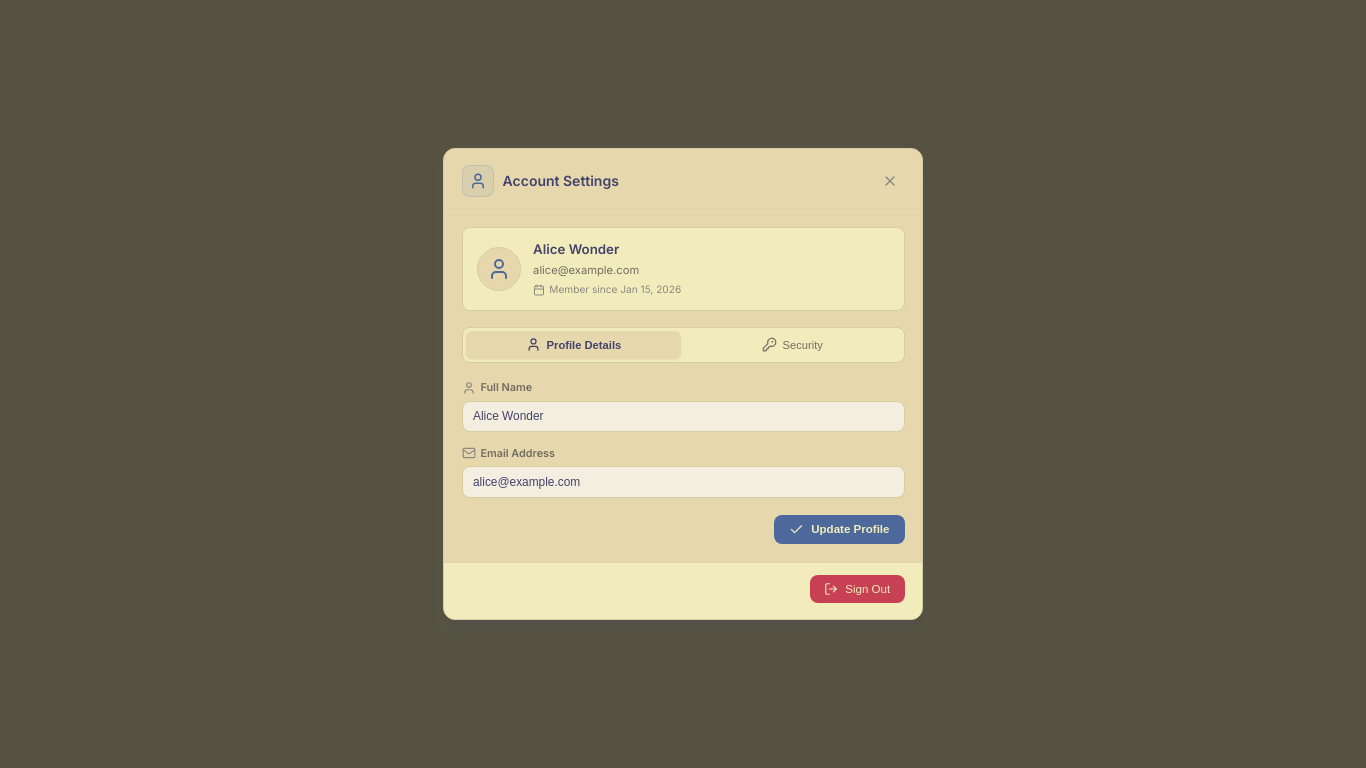
Scenario: Component: ProfileModal (app/components/ProfileModal.vue) › Security / Change Password Form & Validation › validates missing current password
Click the tab "Security". click: (792, 345)
box: [685,331,900,359]
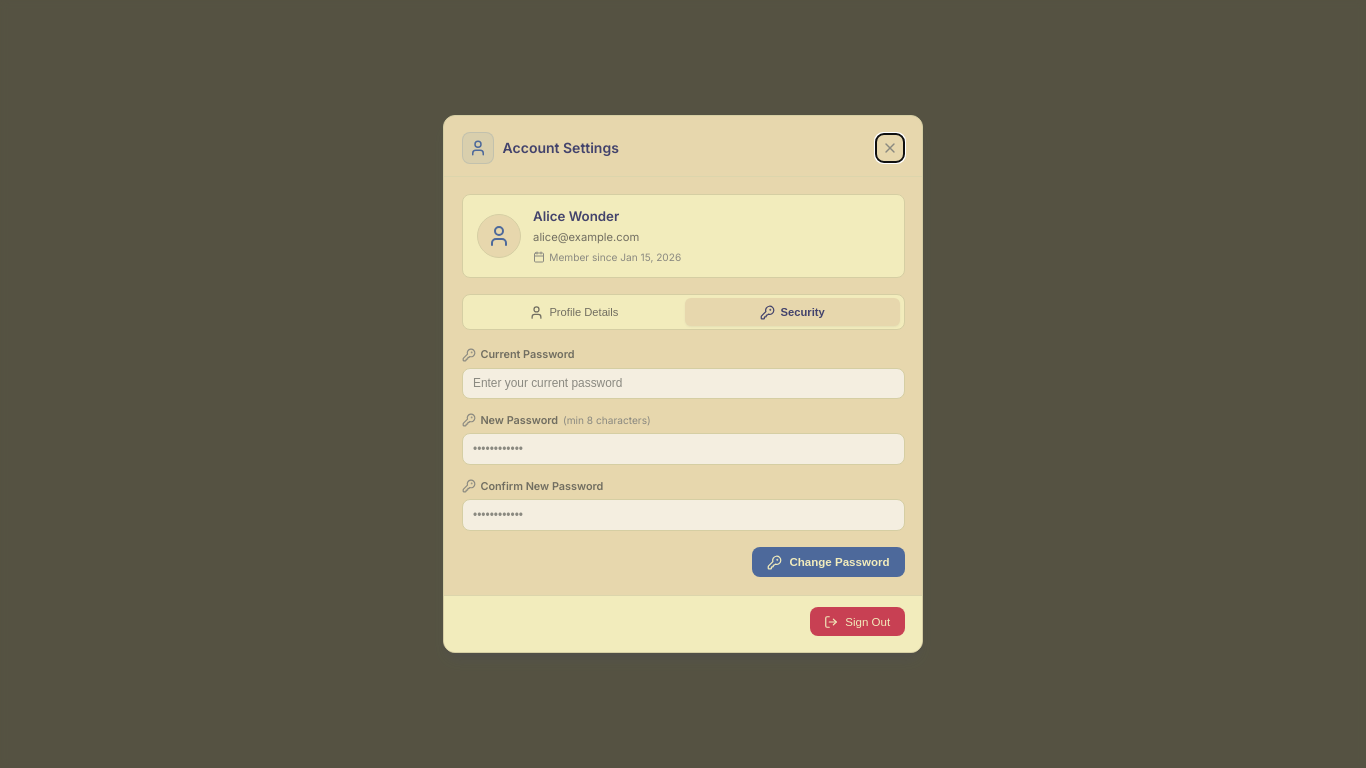
Type "newPassword123" into the password field with id "new-password". click: (683, 449)
box: [462,434,904,465]
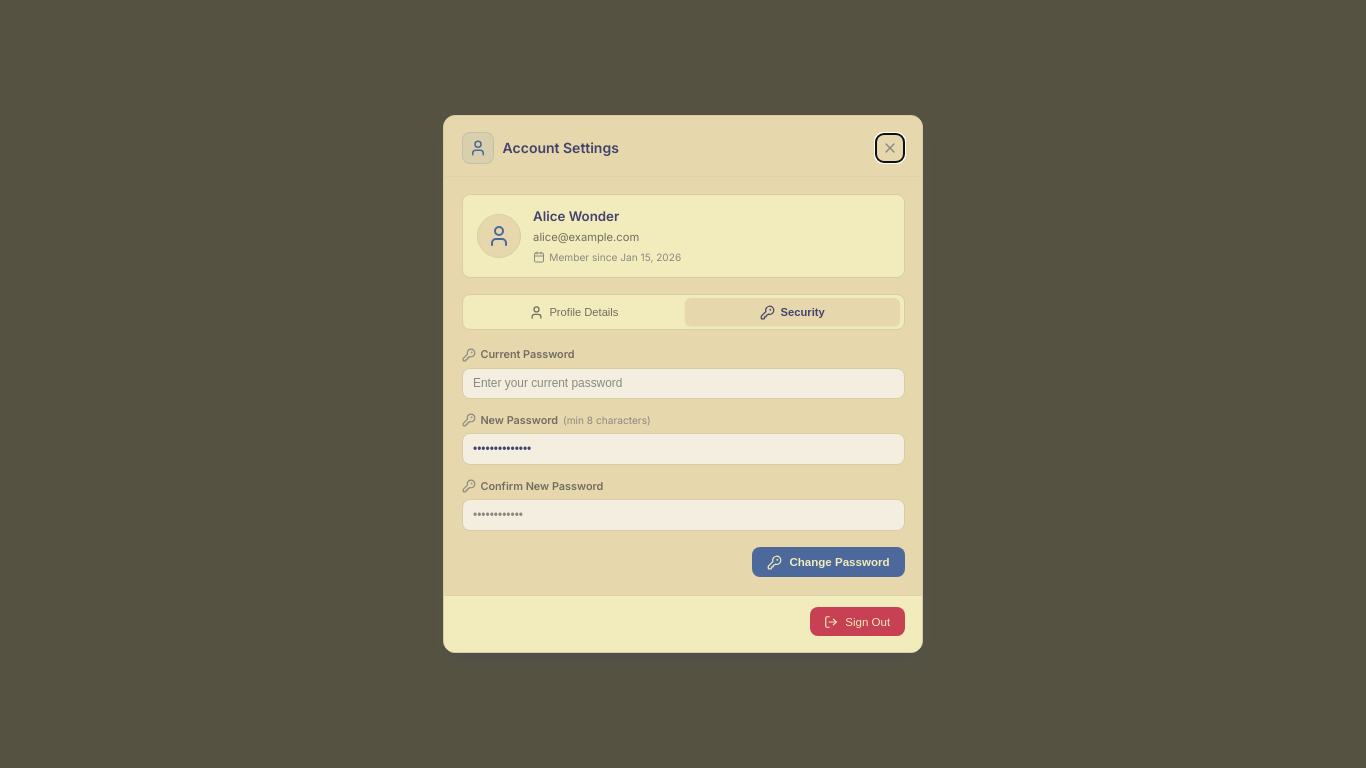
Type "newPassword123" into the password field with id "confirm-password". click: (683, 515)
box: [462,499,904,531]
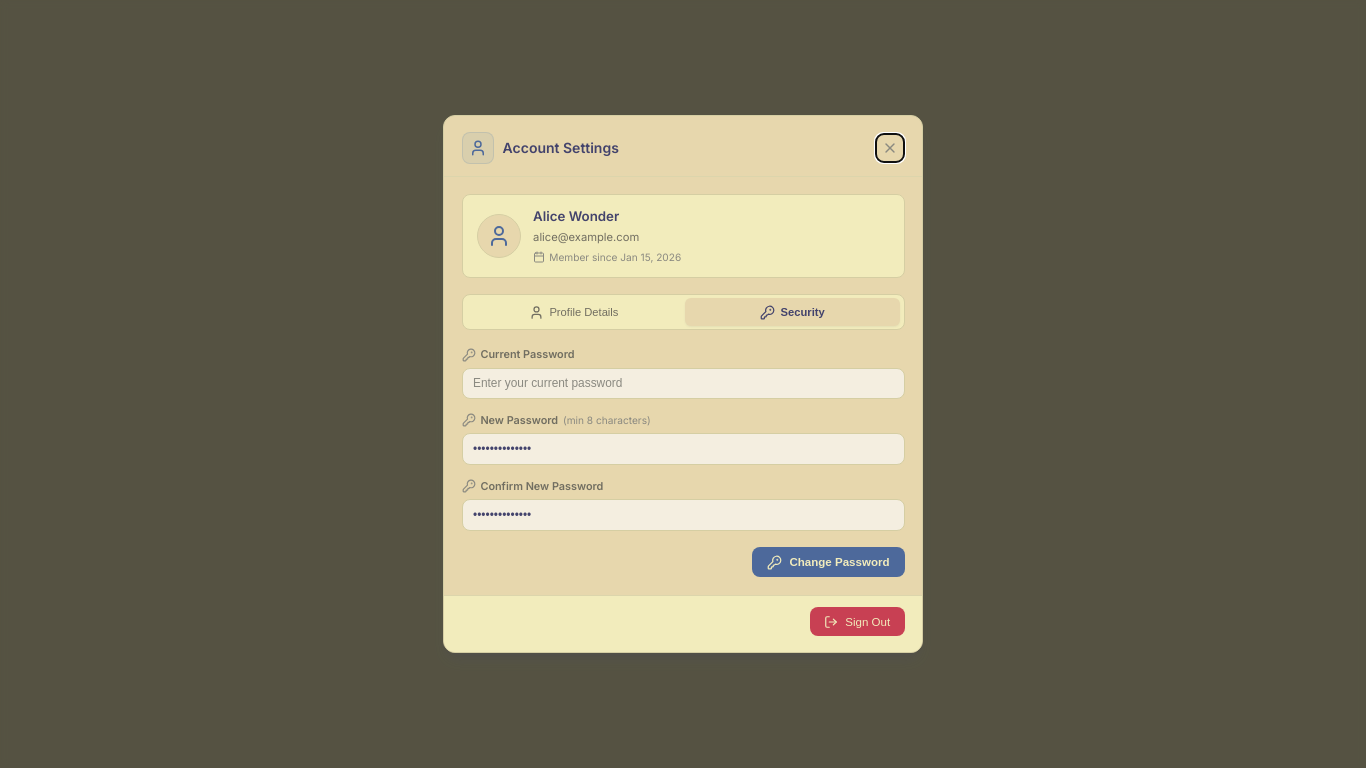
Submit the form, box [462,346,904,577]
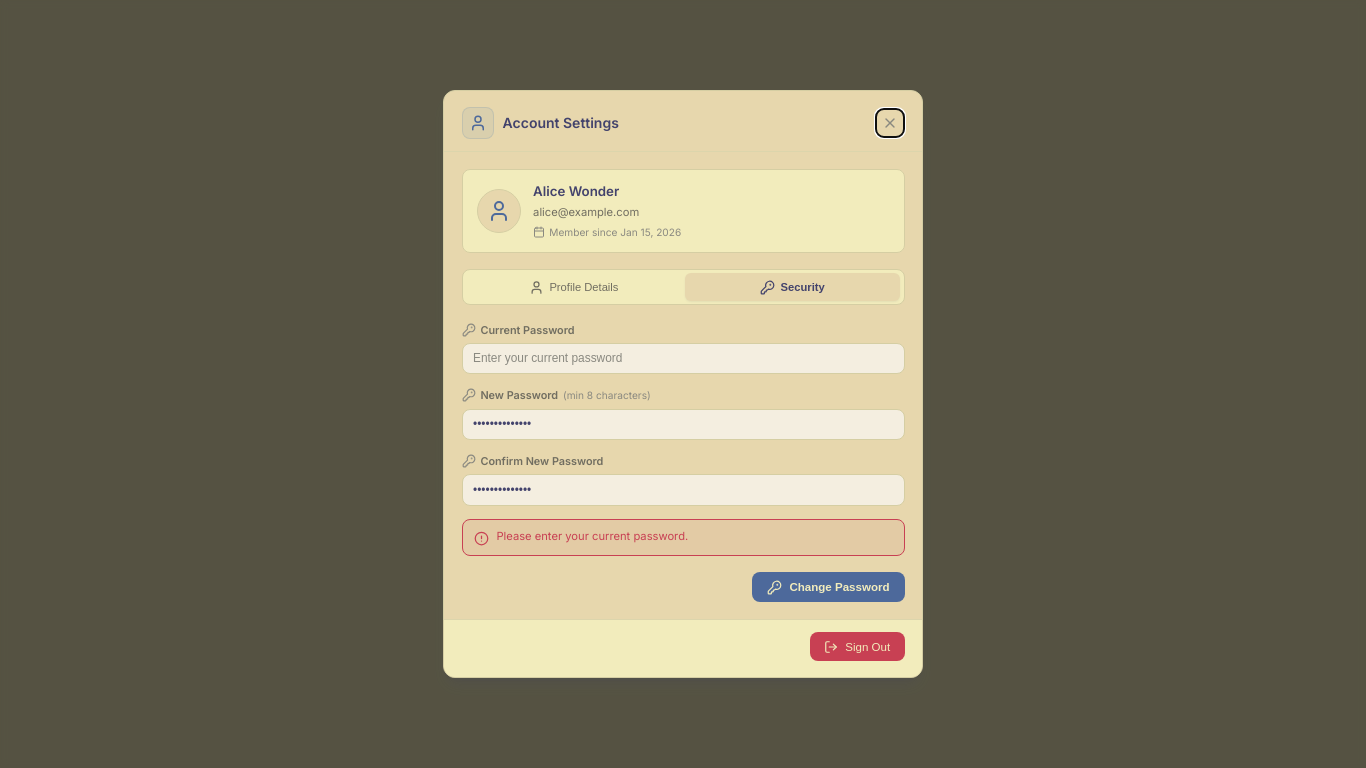
Now the message "Please enter your current password." is shown, box [462,519,904,556]
